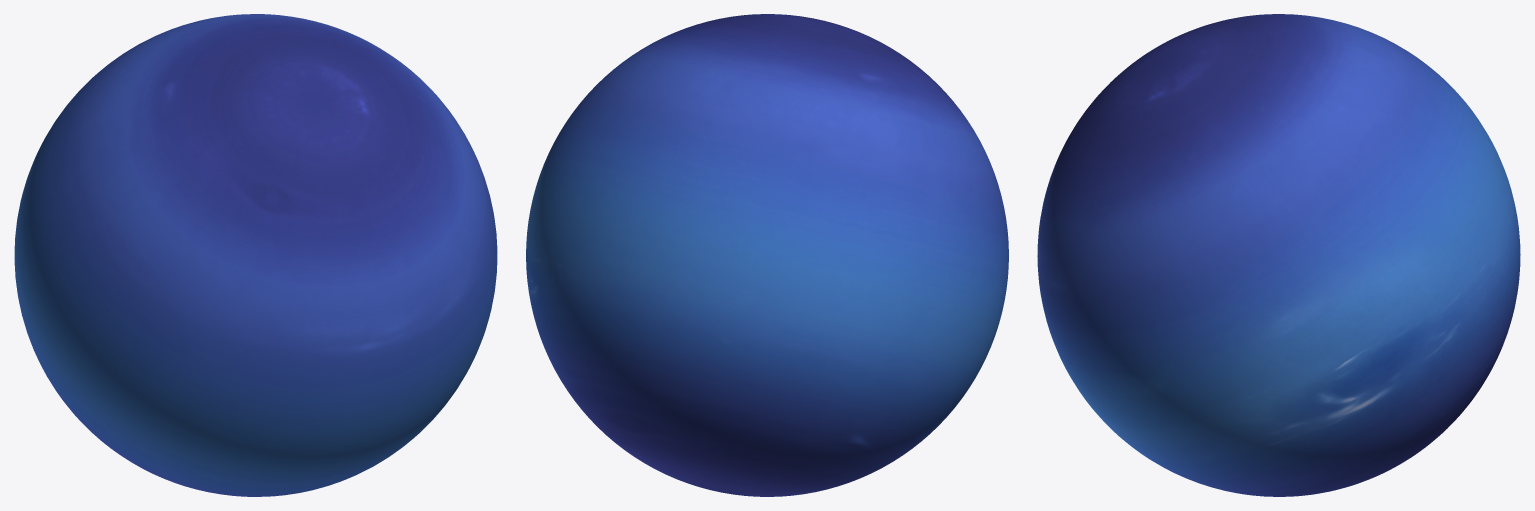
The model's file is Neptune.glb.
3 views of the same model, side by side, from view 1: azimuth 30°, elevation 25°; view 2: azimuth 150°, elevation 25°; view 3: azimuth 270°, elevation 25° (orthographic).
Visible parts, largest first — view 1: Neptune; view 2: Neptune; view 3: Neptune.
Part boxes in pixels (box(x1,y1,x2,y2)): Neptune: box(14, 14, 497, 496); Neptune: box(526, 14, 1008, 496); Neptune: box(1037, 14, 1520, 496).
Bounding box in the file's own units: 2 × 2 × 2.
1 material, 1 textured.
